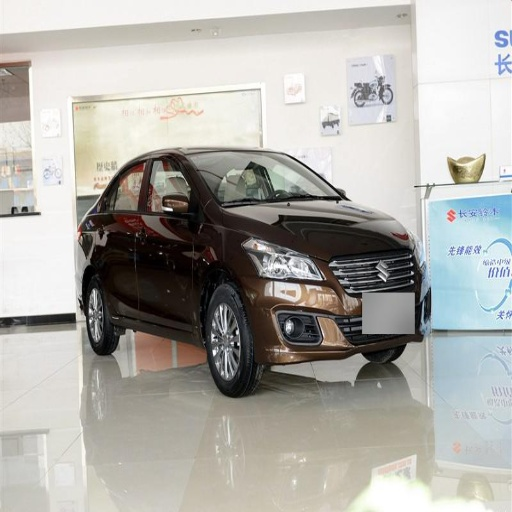front_bumper: (248, 251, 421, 362)
front_right_door: (141, 153, 196, 323)
front_right_light: (244, 239, 335, 310)
